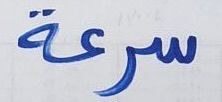character: (16, 7, 62, 67), (139, 27, 198, 66), (107, 37, 138, 97), (65, 22, 106, 63)
